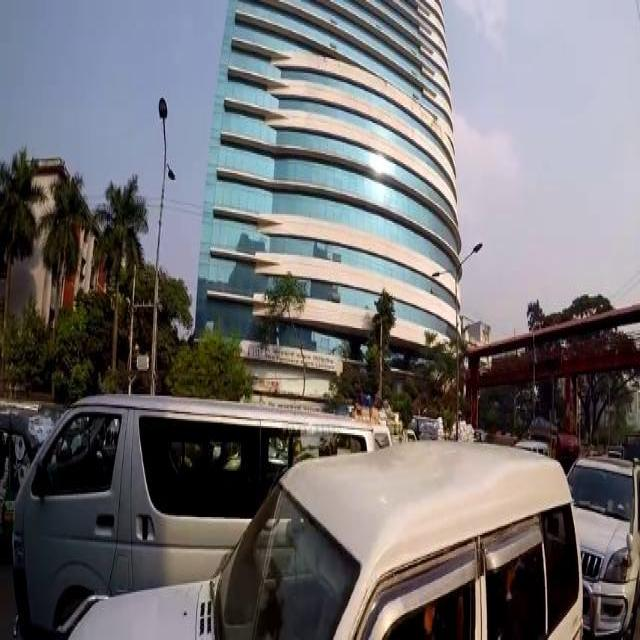suv: (55, 437, 582, 636), (565, 452, 639, 634)
three wheelers -CNG-: (0, 400, 59, 513)
truck: (526, 414, 580, 458)
van: (10, 390, 374, 623)
